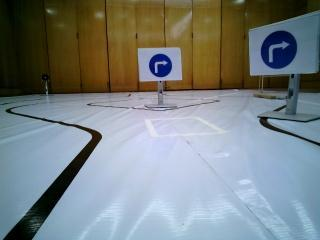right: (247, 26, 317, 73), (135, 48, 182, 80)
